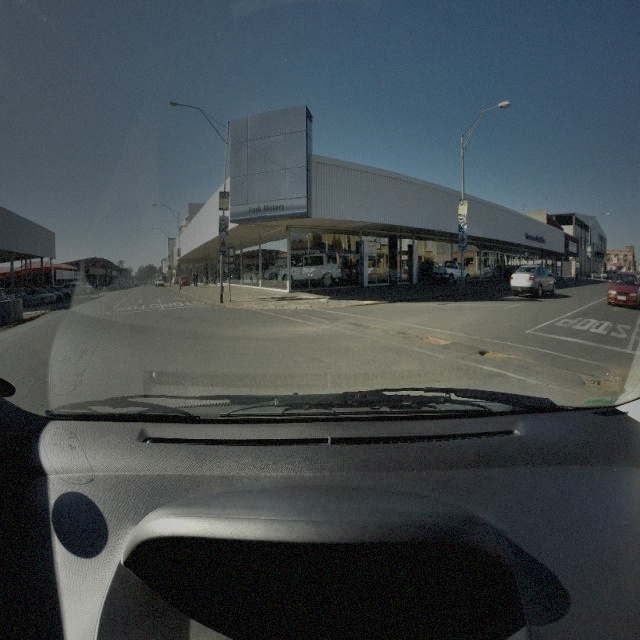pothole: (576, 362, 625, 397), (476, 347, 515, 361), (420, 334, 449, 347)
